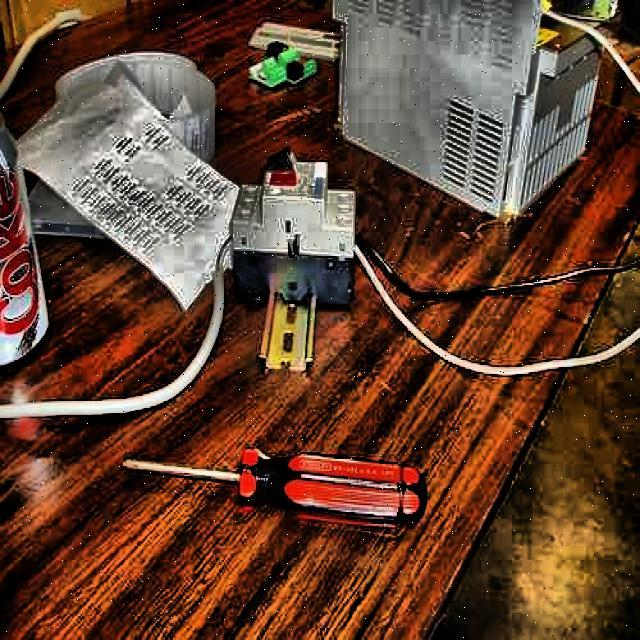screwdriver: (121, 448, 429, 531)
